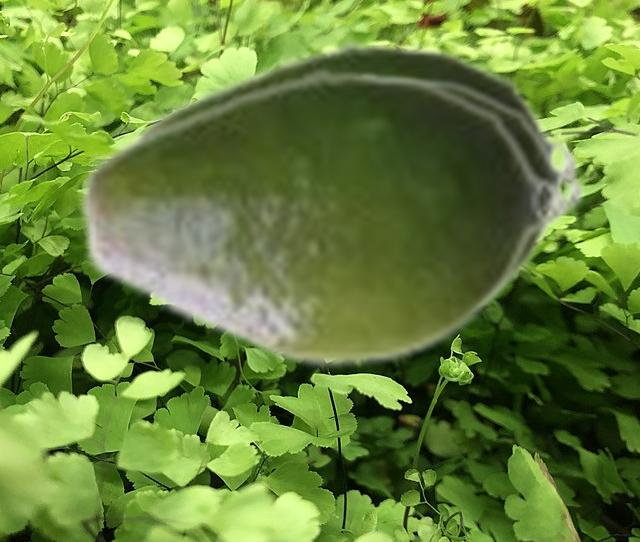avocado: (74, 64, 571, 372), (124, 35, 582, 175), (376, 69, 587, 320)
